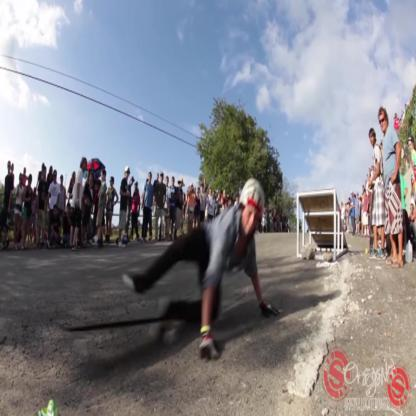Fall_Down: (120, 176, 281, 364)
